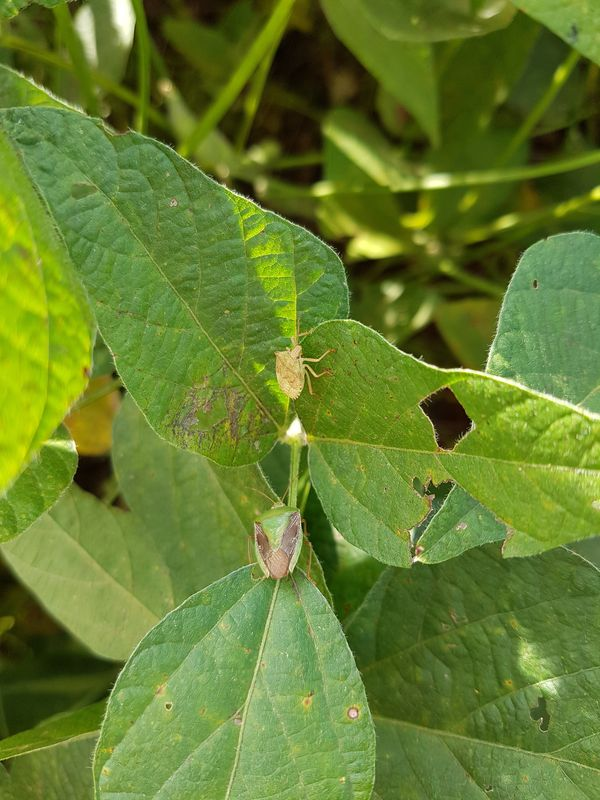Edessa_meditabunda: (238, 479, 319, 596)
Euschistus_heros_ninfa: (267, 319, 339, 411)
